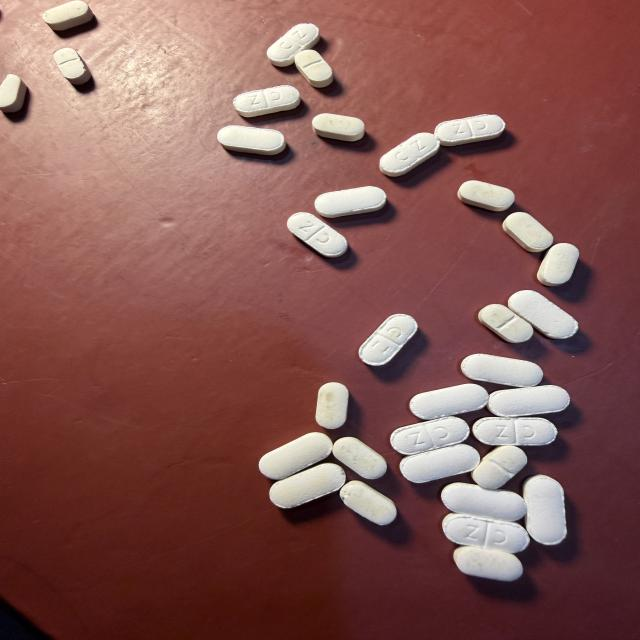pill: (508, 290, 578, 339), (270, 463, 345, 508), (259, 433, 332, 479), (443, 514, 529, 553), (441, 483, 526, 521), (400, 444, 479, 483), (523, 475, 566, 544), (359, 314, 417, 365), (391, 417, 469, 454), (410, 384, 488, 420), (461, 354, 543, 387), (287, 213, 347, 257), (487, 386, 569, 417), (380, 133, 439, 176), (340, 481, 396, 525), (473, 417, 557, 446), (454, 546, 522, 581), (472, 446, 527, 489), (333, 437, 386, 479), (267, 24, 319, 66), (435, 115, 505, 146), (233, 85, 300, 117), (315, 187, 386, 217), (479, 304, 533, 343), (217, 126, 286, 155), (503, 212, 553, 252), (537, 244, 579, 286), (458, 181, 514, 211), (43, 0, 93, 30), (295, 49, 333, 87), (316, 383, 348, 428), (312, 114, 364, 141), (54, 48, 91, 84), (0, 74, 26, 112)
